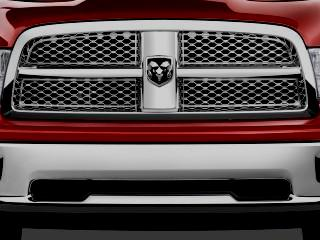ram: (144, 52, 178, 90)
